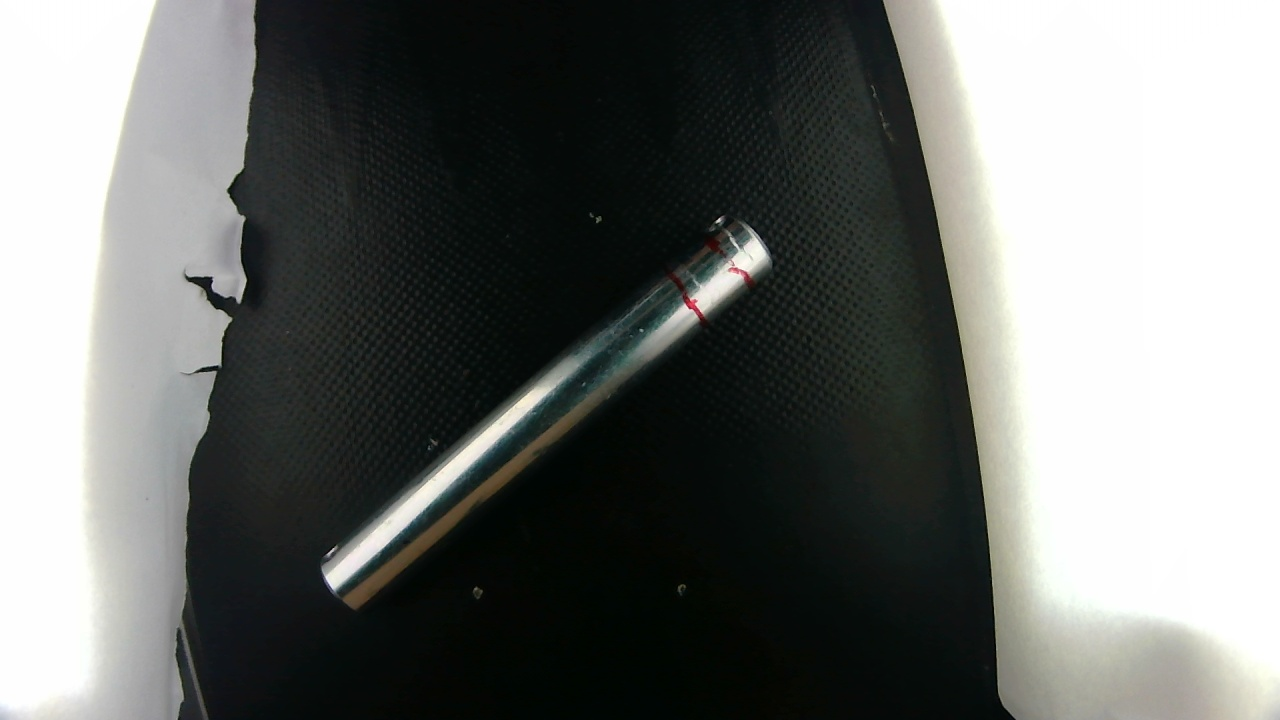odlinemark_pin: (681, 252, 725, 307)
